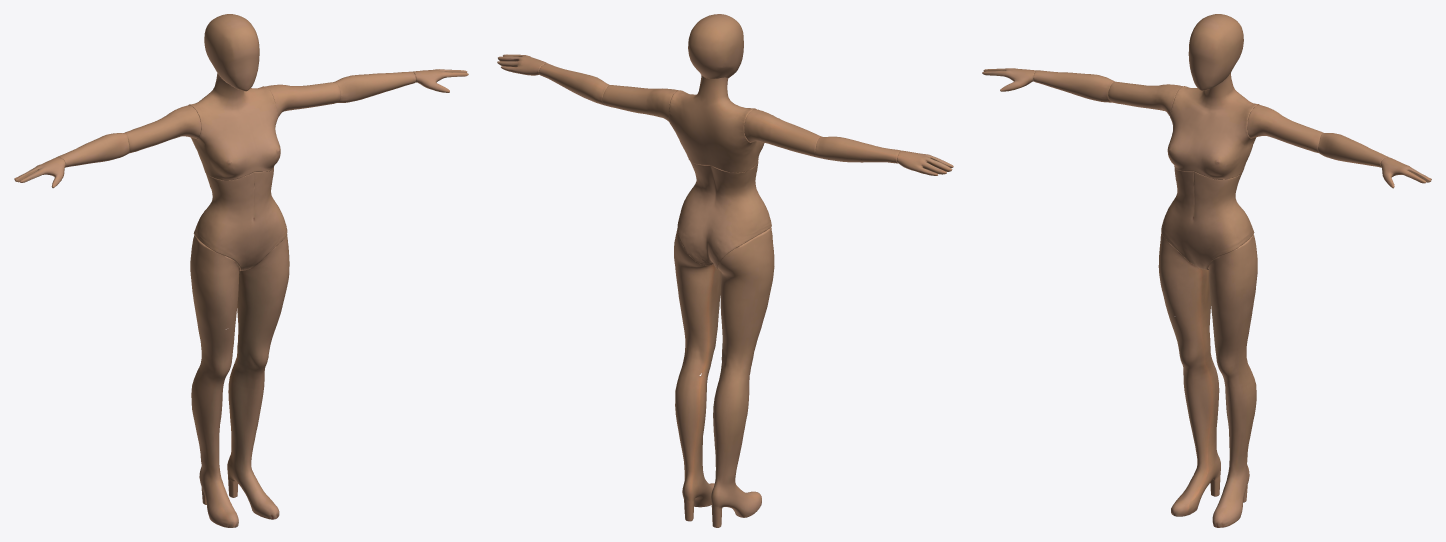
File: toonstudio_female_8head.glb
The picture shows the model from 3 angles, left to right: view 1: azimuth 30°, elevation 25°; view 2: azimuth 150°, elevation 25°; view 3: azimuth 330°, elevation 25°; orthographic projection.
Visible parts, largest first — view 1: tripo_70c0089c_3897_4d20_a7d1_1806e34f706a; view 2: tripo_70c0089c_3897_4d20_a7d1_1806e34f706a; view 3: tripo_70c0089c_3897_4d20_a7d1_1806e34f706a.
Boxes of the visible parts, box(x1,y1,x2,y2) form: tripo_70c0089c_3897_4d20_a7d1_1806e34f706a: box(14, 14, 468, 527); tripo_70c0089c_3897_4d20_a7d1_1806e34f706a: box(497, 14, 953, 527); tripo_70c0089c_3897_4d20_a7d1_1806e34f706a: box(982, 14, 1431, 527).
Size of the model in its own units: 1.63 by 1.7 by 0.2467.
Materials: 1 (1 with a texture image).
